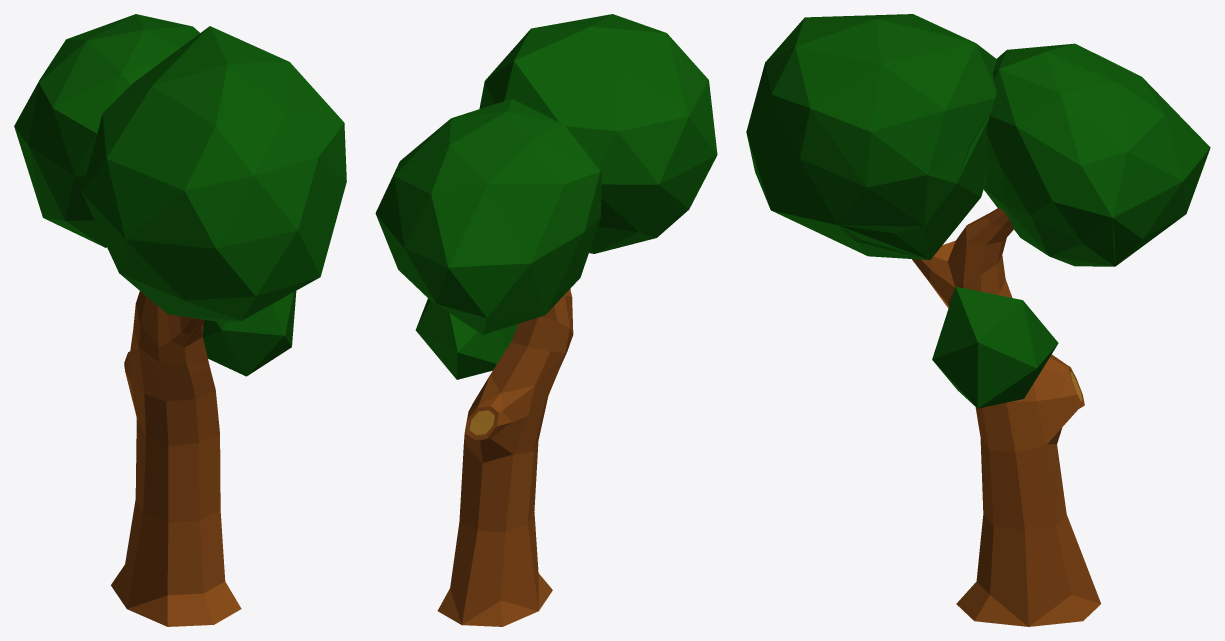
The model's file is Tree4Model.fbx.
3 renders of one model, left to right at view 1: azimuth 30°, elevation 25°; view 2: azimuth 150°, elevation 25°; view 3: azimuth 270°, elevation 25°, orthographic. The views are drawn at different scales.
Parts seen in each view (by area): view 1: Leaves_1, Tree_002, Leaves_2, Leaves_006, Tree_1, Leaves_3, Tree_003; view 2: Leaves_2, Leaves_1, Tree_002, Tree_003, Leaves_006, Tree_1, Leaves_3, Leaves_004; view 3: Leaves_1, Leaves_2, Tree_1, Leaves_3, Tree_003, Leaves_006, Tree_002.
Part boxes in pixels (bbox=[...]): Leaves_1: bbox=[81, 26, 346, 322]; Tree_002: bbox=[111, 291, 213, 626]; Leaves_2: bbox=[14, 14, 199, 247]; Leaves_006: bbox=[82, 126, 215, 239]; Tree_1: bbox=[124, 299, 241, 624]; Leaves_3: bbox=[203, 291, 296, 376]; Tree_003: bbox=[125, 319, 209, 608]; Leaves_2: bbox=[375, 99, 601, 334]; Leaves_1: bbox=[479, 14, 716, 253]; Tree_002: bbox=[462, 295, 573, 626]; Tree_003: bbox=[450, 288, 570, 624]; Leaves_006: bbox=[504, 33, 717, 231]; Tree_1: bbox=[437, 289, 573, 624]; Leaves_3: bbox=[415, 298, 518, 379]; Leaves_004: bbox=[449, 313, 477, 351]; Leaves_1: bbox=[746, 14, 996, 259]; Leaves_2: bbox=[983, 43, 1210, 266]; Tree_1: bbox=[912, 208, 1100, 626]; Leaves_3: bbox=[932, 286, 1058, 408]; Tree_003: bbox=[930, 240, 1100, 626]; Leaves_006: bbox=[772, 43, 996, 259]; Tree_002: bbox=[947, 208, 1084, 404].
Bounding box in the file's own units: 530 × 1232 × 906.
